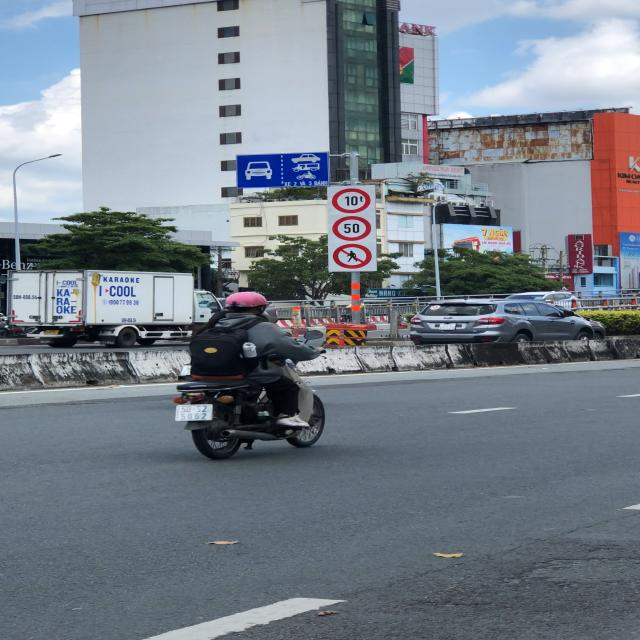Bien bao toc do toi da cho phep: (328, 215, 372, 240)
